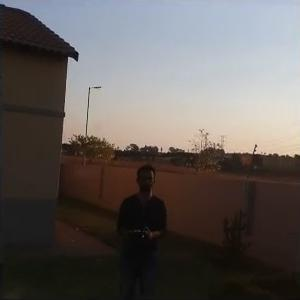follow: (112, 161, 172, 298)
